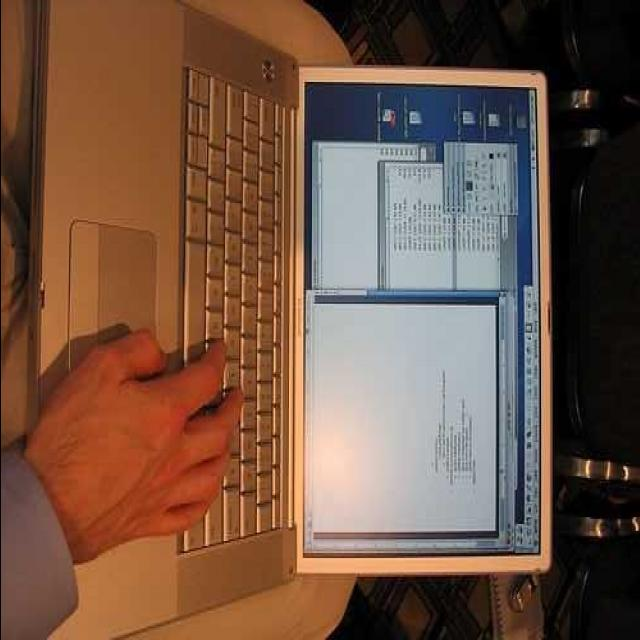laptop: (5, 29, 546, 627)
